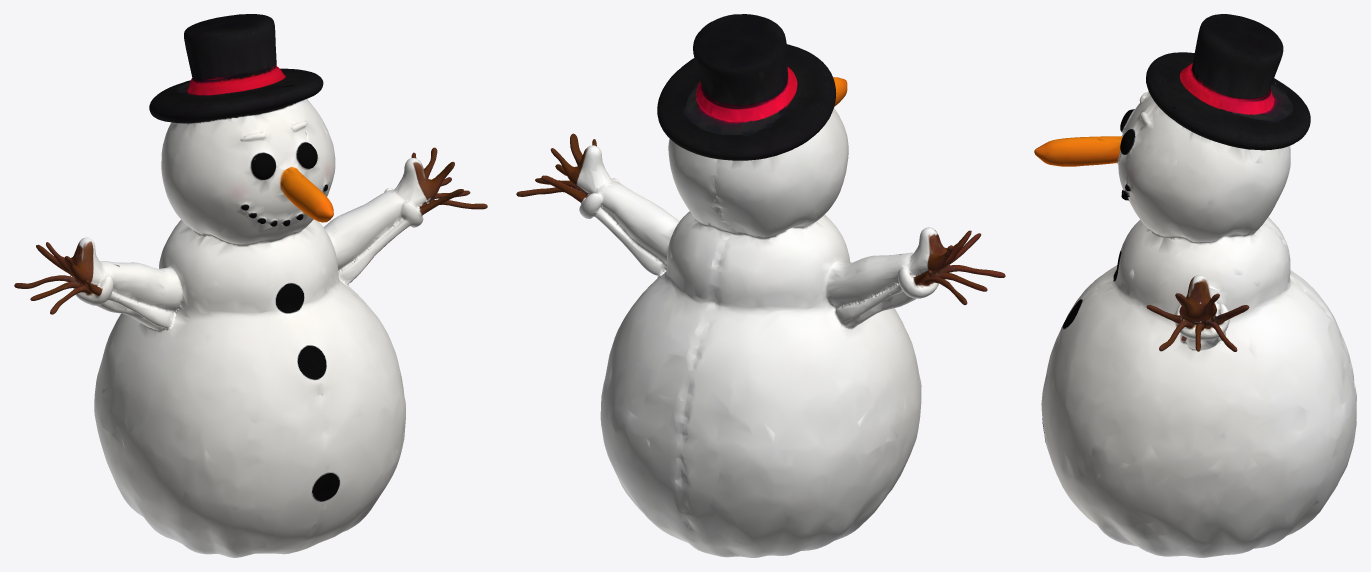
The model's file is chubby-snowman.glb.
3 renders of one model, left to right at view 1: azimuth 30°, elevation 25°; view 2: azimuth 150°, elevation 25°; view 3: azimuth 270°, elevation 25°, orthographic. The views are drawn at different scales.
Bounding box in the file's own units: 1.76 × 1.91 × 1.11.
Materials: 1 (1 with a texture image).
